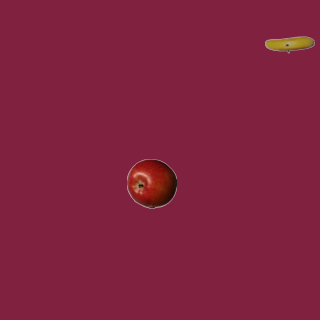Apple Braeburn: (126, 158, 176, 208)
Banana: (264, 19, 314, 69)
